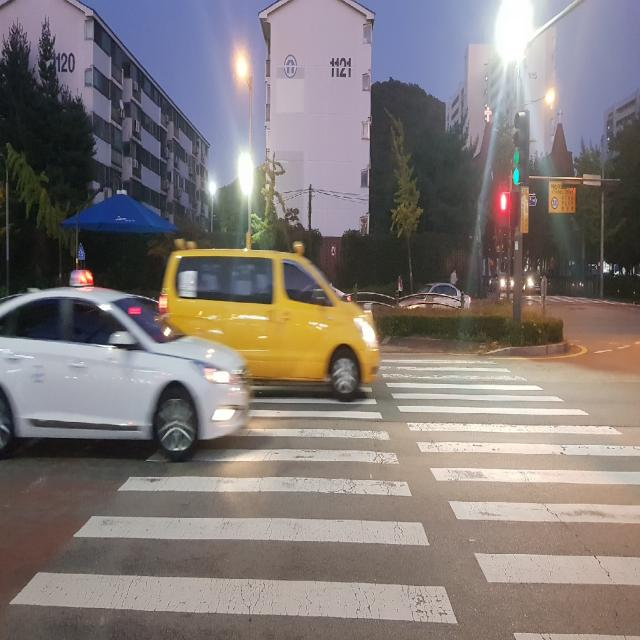빨간불: (497, 183, 511, 232)
횡단보도: (6, 358, 640, 640)
